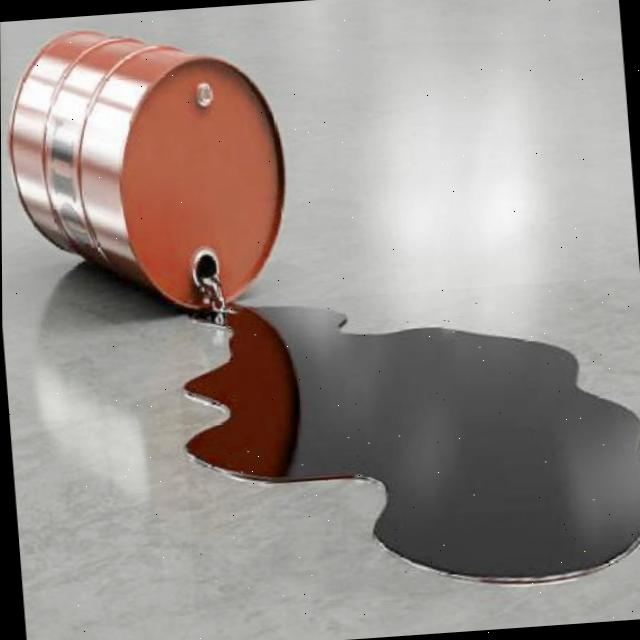spillage: (182, 304, 640, 587)
